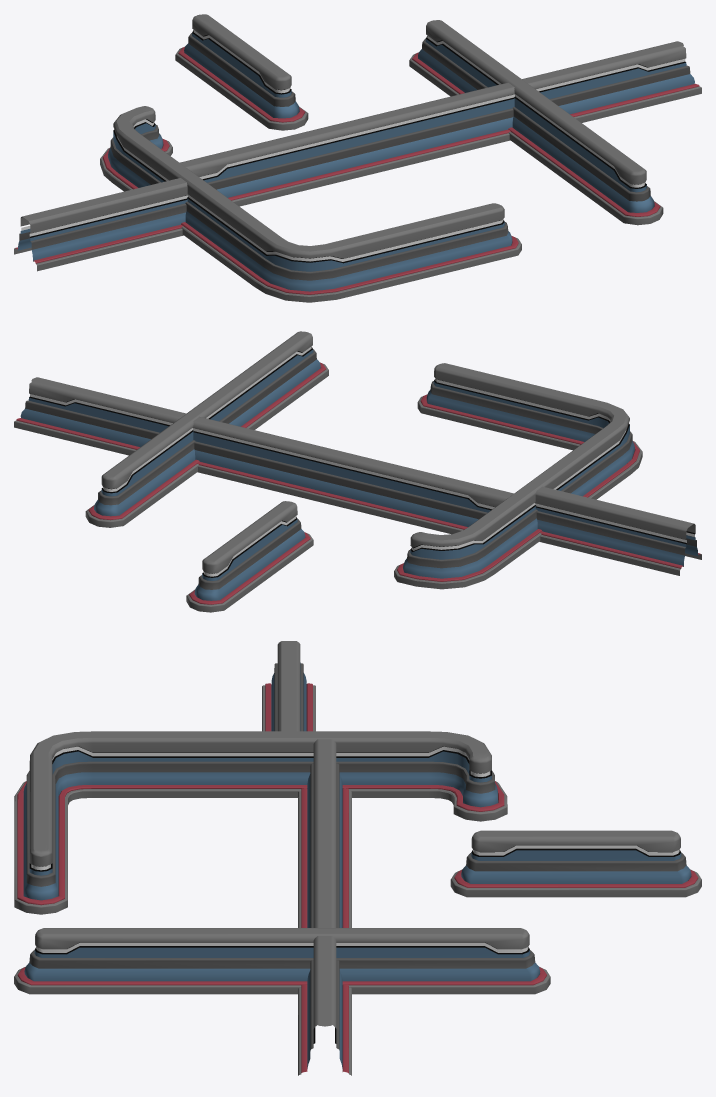
Rendered from SmallWalls.fbx.
The picture shows the model from 3 angles, top to bottom: view 1: azimuth 30°, elevation 25°; view 2: azimuth 150°, elevation 25°; view 3: azimuth 270°, elevation 25°; orthographic projection. The views are drawn at different scales.
Parts seen in each view (by area): view 1: SmallWall1, SmallWall2, SmallWall4, SmallWall3, SmallWall5; view 2: SmallWall1, SmallWall2, SmallWall4, SmallWall3, SmallWall5; view 3: SmallWall2, SmallWall4, SmallWall5, SmallWall1, SmallWall3.
Part boxes in pixels (left/top/right/bottom): SmallWall1: left=179, top=41, right=701, bottom=206; SmallWall2: left=100, top=106, right=521, bottom=302; SmallWall4: left=409, top=20, right=663, bottom=225; SmallWall3: left=14, top=178, right=188, bottom=271; SmallWall5: left=175, top=14, right=308, bottom=130; SmallWall1: left=14, top=377, right=513, bottom=534; SmallWall2: left=394, top=363, right=642, bottom=589; SmallWall4: left=85, top=331, right=328, bottom=527; SmallWall3: left=535, top=486, right=701, bottom=575; SmallWall5: left=186, top=501, right=313, bottom=612; SmallWall2: left=14, top=731, right=507, bottom=914; SmallWall4: left=14, top=928, right=550, bottom=994; SmallWall5: left=450, top=830, right=701, bottom=897; SmallWall1: left=298, top=739, right=351, bottom=1075; SmallWall3: left=262, top=641, right=315, bottom=731.
Bounding box in the file's own units: 5901 × 377 × 4393.
